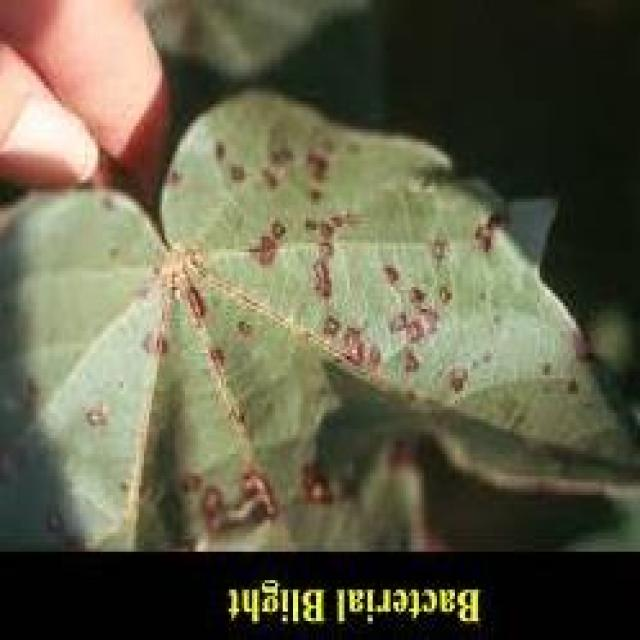Bacterial Blight: (190, 121, 487, 518)
